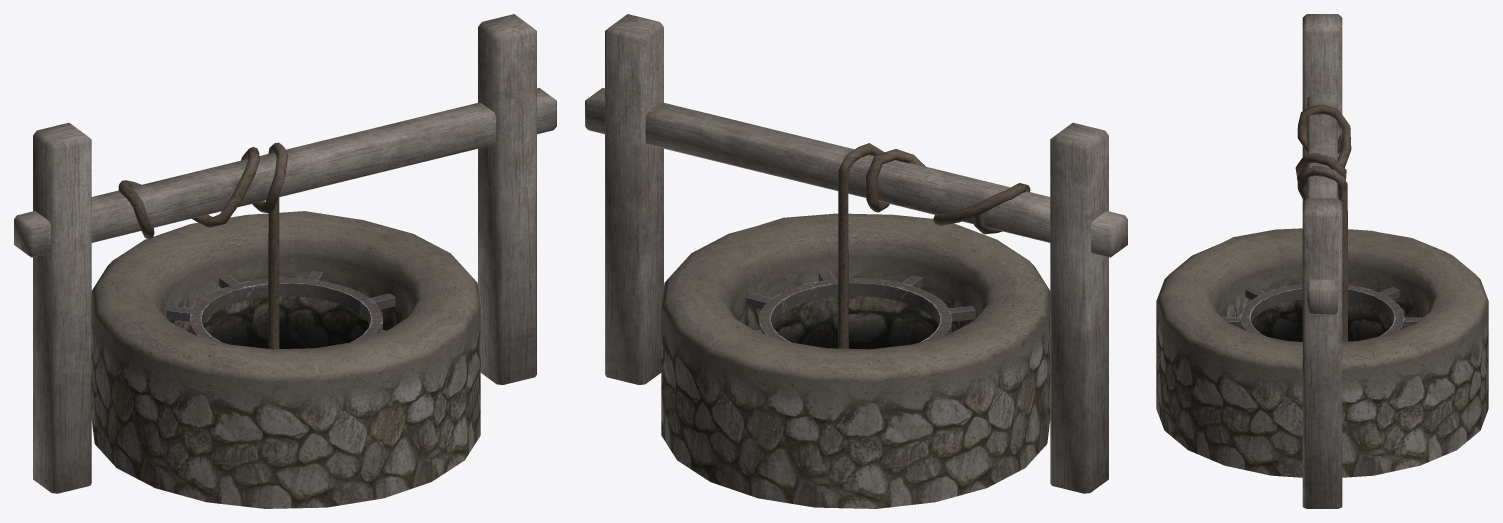
The model's file is well1.fbx.
The picture shows the model from 3 angles, left to right: view 1: azimuth 30°, elevation 25°; view 2: azimuth 150°, elevation 25°; view 3: azimuth 270°, elevation 25°; orthographic projection. The views are drawn at different scales.
Parts seen in each view (by area): view 1: well1; view 2: well1; view 3: well1.
Boxes of the visible parts, x1,y1,x2,y2 form: well1: (14,14,556,508); well1: (585,14,1127,508); well1: (1156,14,1488,508).
Size of the model in its own units: 419 by 264 by 269.
